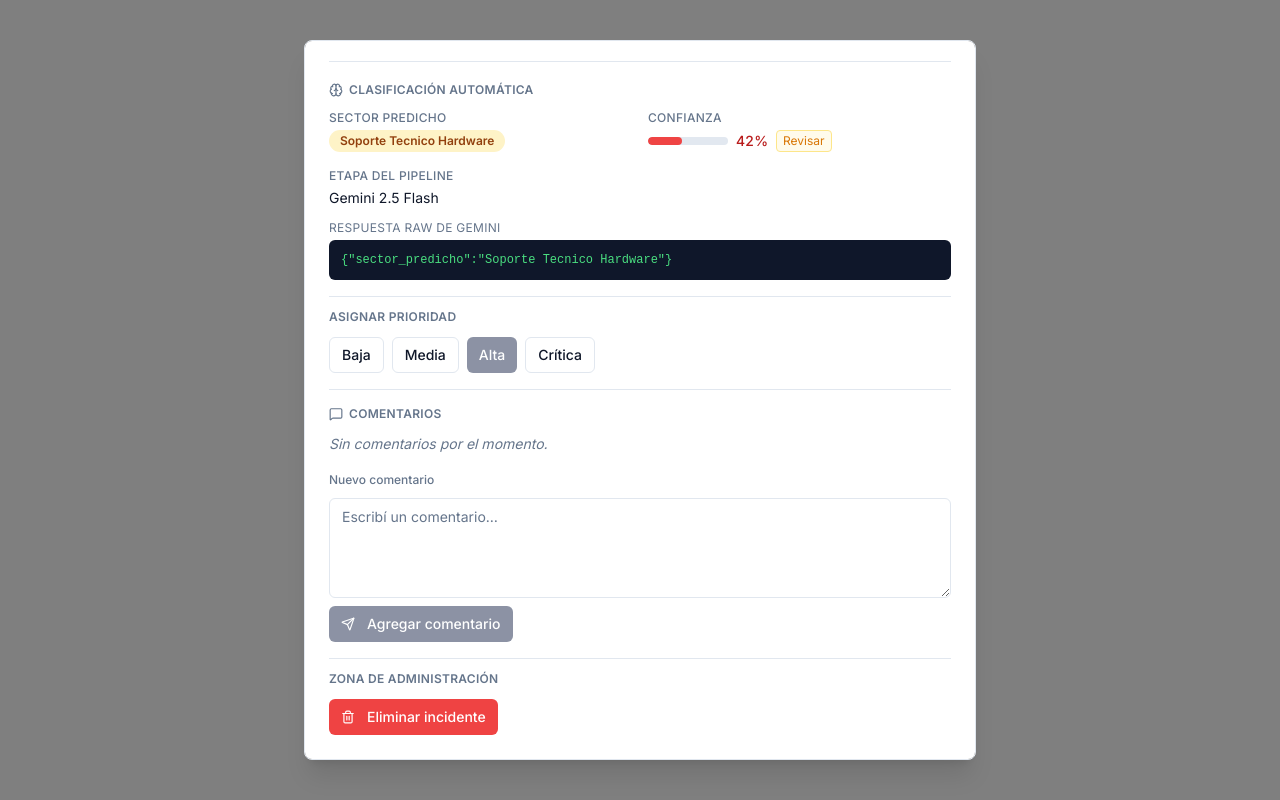
Scenario: TicketDetailDialog - accion de borrado logico (c-87, FR-RBAC-006) › un 403 se maneja como acceso denegado sin asumir exito
(page scrolled)
Step 1. Click the button "Eliminar incidente" → (413, 717), box x1=329 y1=699 x2=498 y2=735
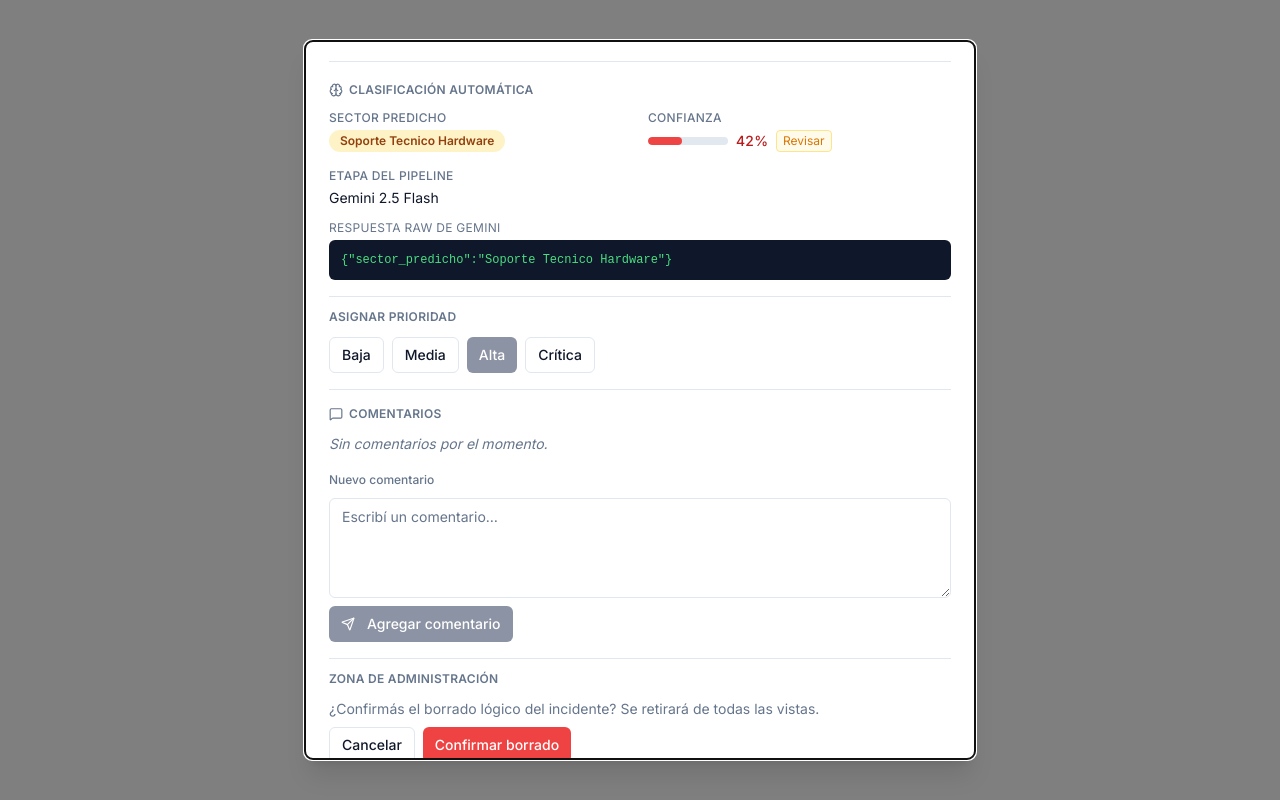
Step 2. Click the button "Confirmar borrado" → (497, 745), box x1=423 y1=727 x2=571 y2=763
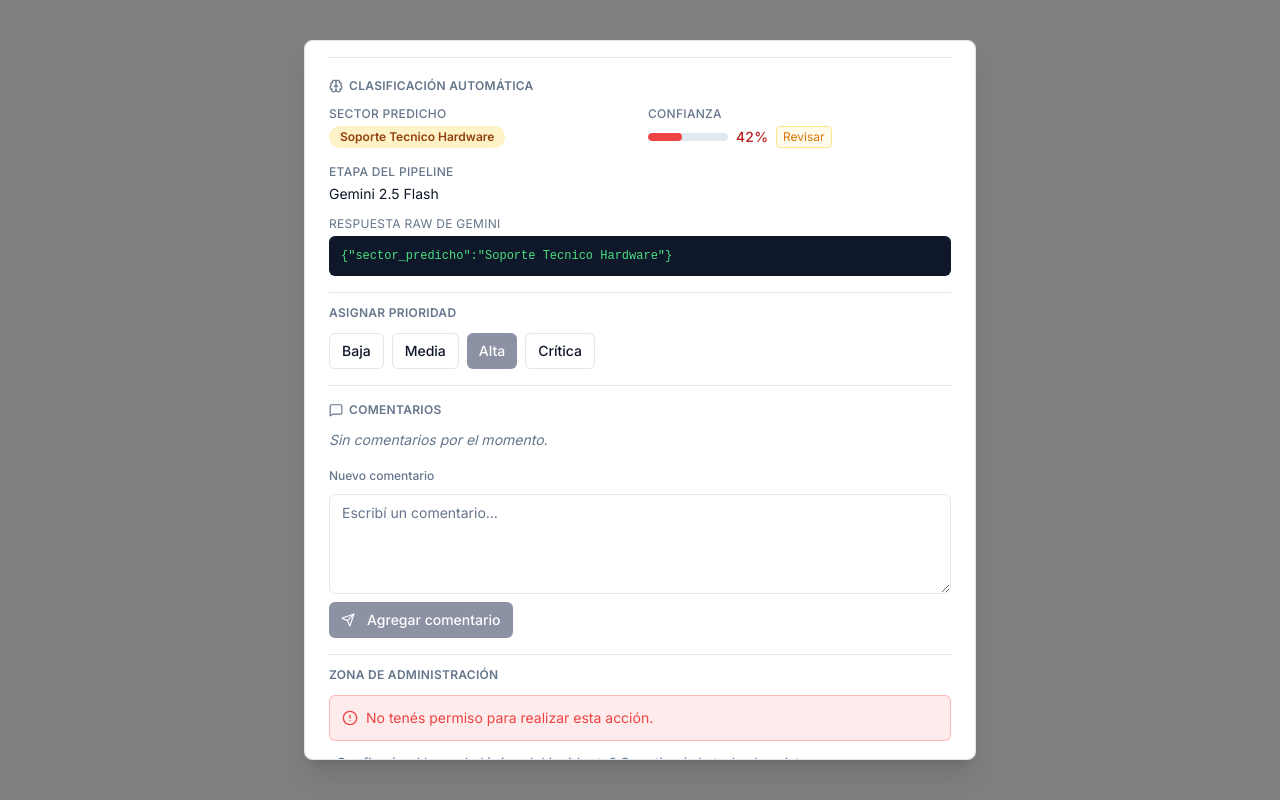
Now the text "No tenés permiso para realizar esta acción." is shown, box x1=366 y1=708 x2=653 y2=728
